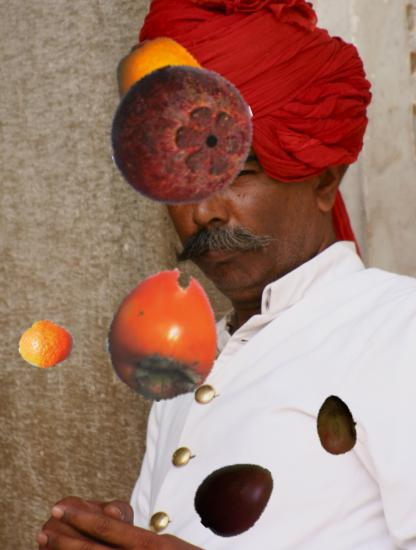Kaki: (96, 267, 232, 403)
Kumquats: (103, 36, 236, 169)
Mandarine: (18, 316, 74, 372)
Mango: (192, 454, 278, 540)
Mangostan: (108, 61, 256, 209)
Papaya: (306, 394, 368, 456)
